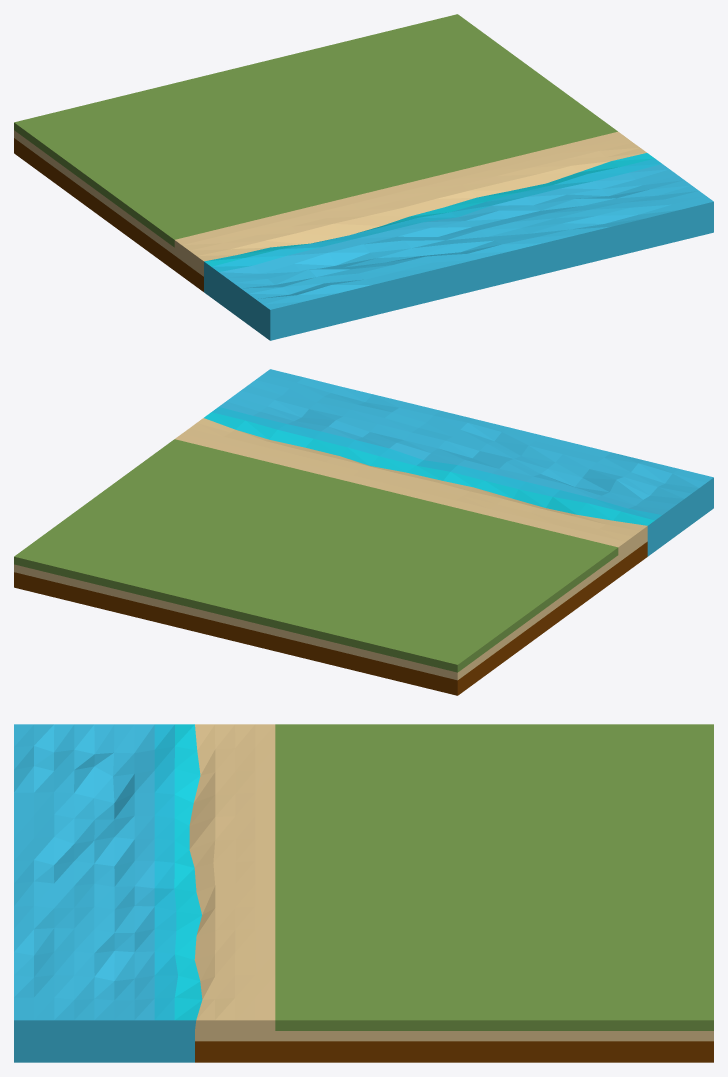
Rendered from environment.glb.
3 views of the same model, one above another, from view 1: azimuth 30°, elevation 25°; view 2: azimuth 150°, elevation 25°; view 3: azimuth 270°, elevation 25° (orthographic). The views are drawn at different scales.
Parts seen in each view (by area): view 1: Cube.001; view 2: Cube.001; view 3: Cube.001.
Boxes of the visible parts, bbox=[...] form: Cube.001: bbox=[14, 14, 713, 340]; Cube.001: bbox=[14, 369, 713, 695]; Cube.001: bbox=[14, 724, 713, 1062].
Size of the model in its own units: 120 by 8.74 by 120.
